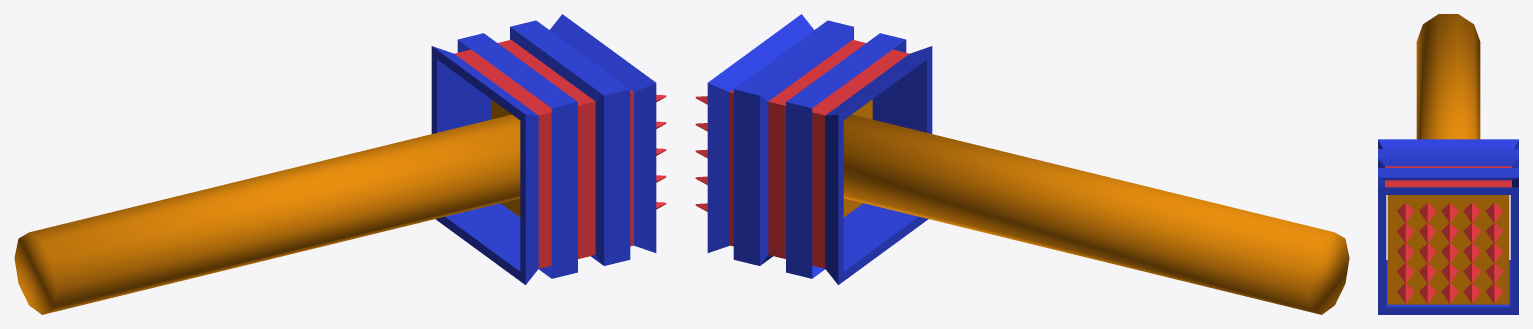
Rendered from engel10.fbx.
3 views of the same model, side by side, from view 1: azimuth 30°, elevation 25°; view 2: azimuth 150°, elevation 25°; view 3: azimuth 270°, elevation 25° (orthographic). The views are drawn at different scales.
Visible parts, largest first — view 1: Cube.007, Cube.006; view 2: Cube.007, Cube.006; view 3: Cube.007, Cube.006.
Boxes of the visible parts, left/top/right/bottom form: Cube.007: left=14, top=94, right=666, bottom=314; Cube.006: left=431, top=14, right=656, bottom=284; Cube.007: left=695, top=96, right=1349, bottom=314; Cube.006: left=707, top=14, right=932, bottom=284; Cube.007: left=1387, top=14, right=1509, bottom=304; Cube.006: left=1378, top=139, right=1518, bottom=314.
Size of the model in its own units: 739 by 200 by 200.
